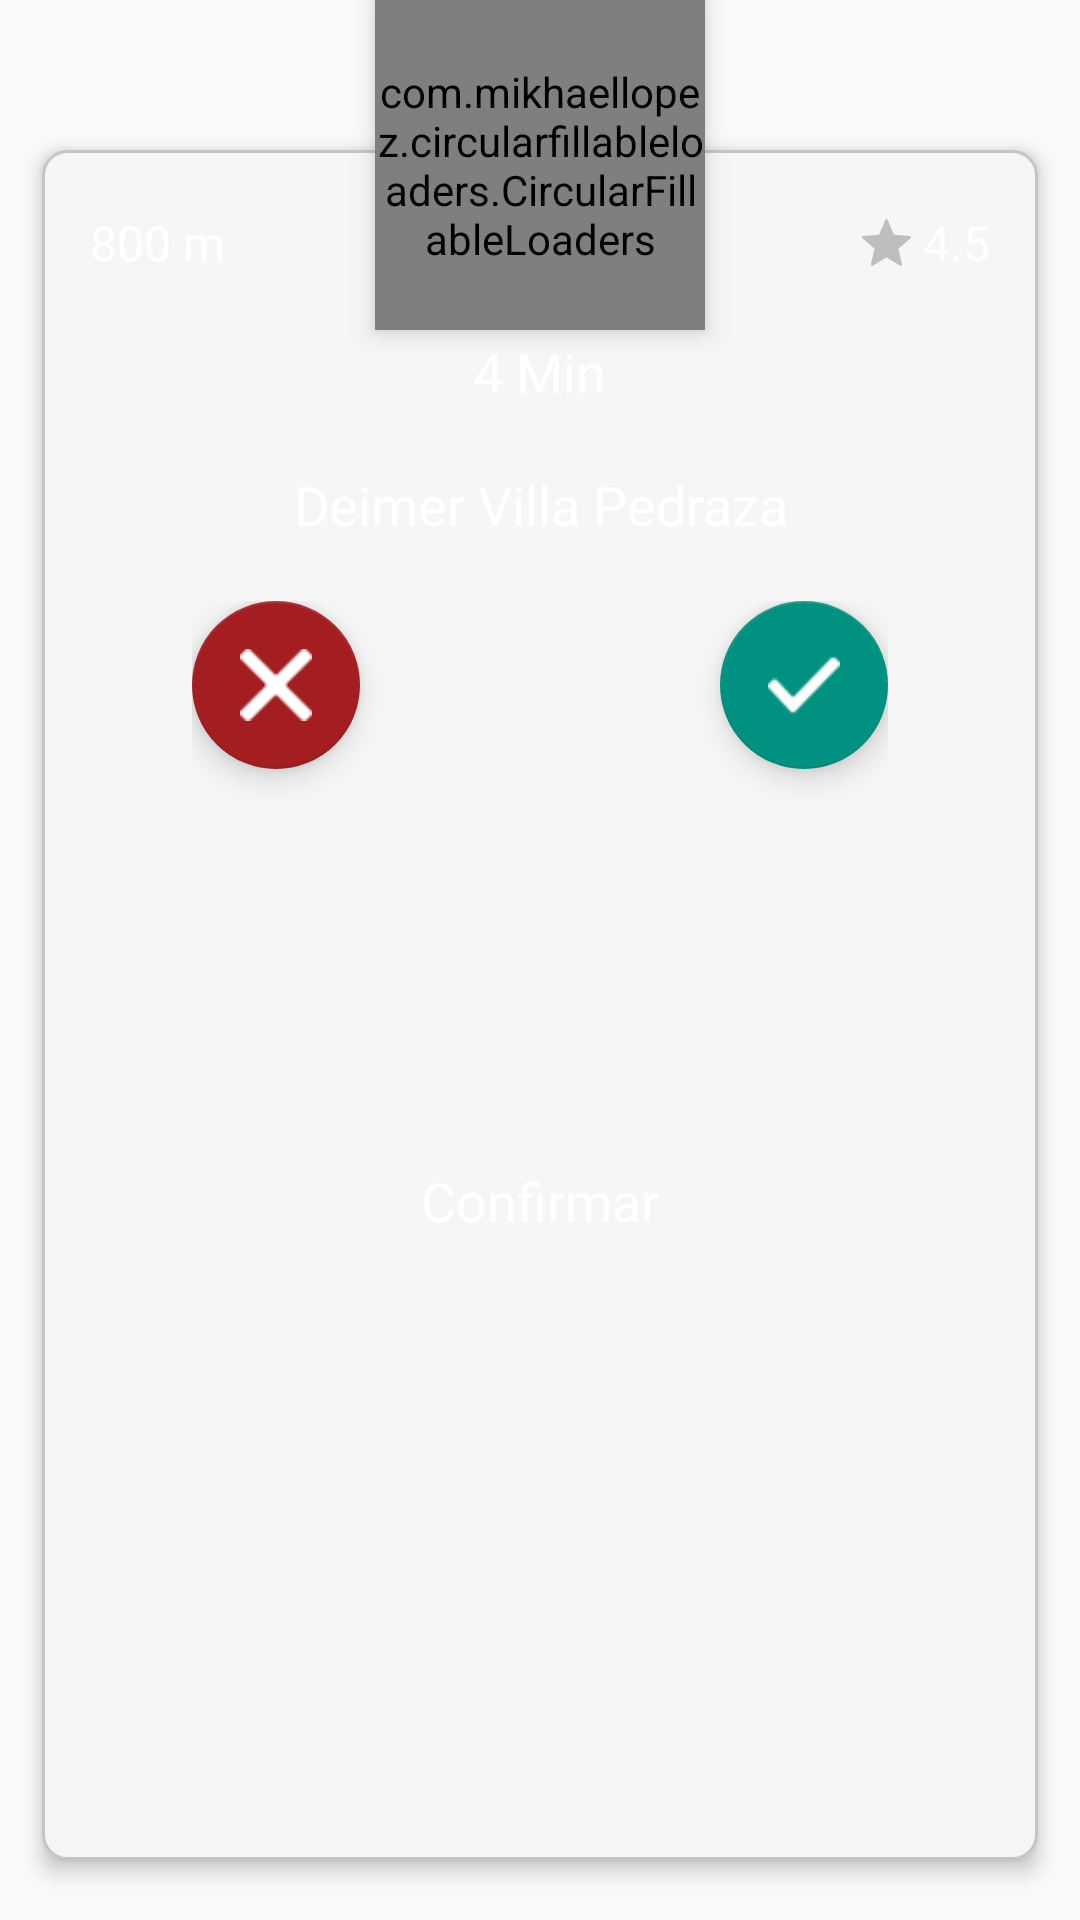

Icons on this 1080×1920 Android screen, each with the point to tap as point (x, y):
cancel: point (276, 685)
checked: point (804, 685)
